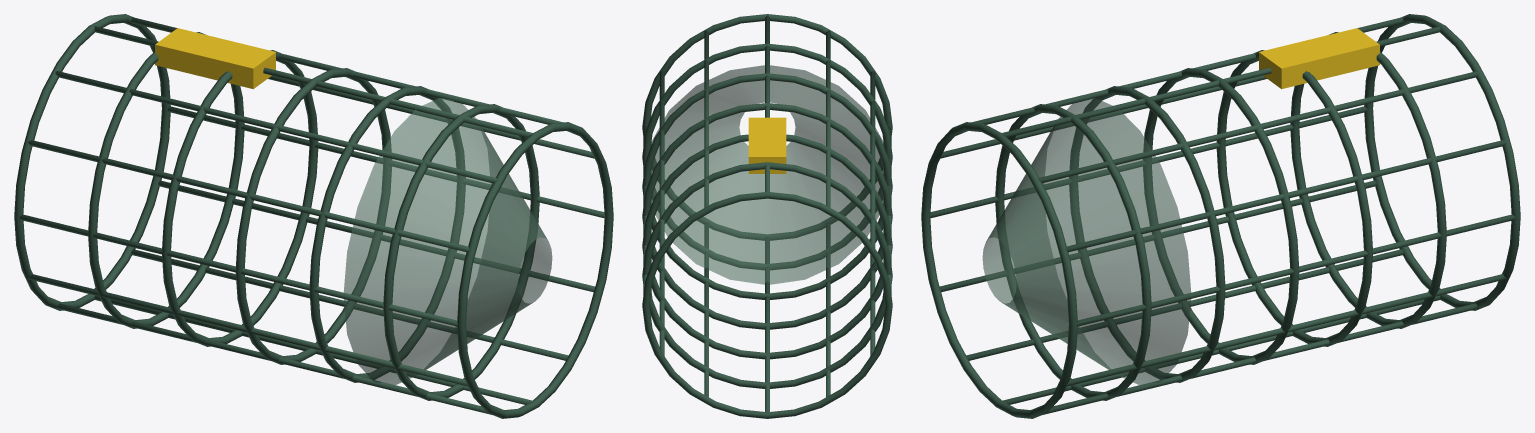
File: trap.fbx
The picture shows the model from 3 angles, left to right: view 1: azimuth 30°, elevation 25°; view 2: azimuth 150°, elevation 25°; view 3: azimuth 270°, elevation 25°; orthographic projection. The views are drawn at different scales.
Visible parts, largest first — view 1: Trap; view 2: Trap; view 3: Trap.
Part boxes in pixels (x1,y1,x2,y2): Trap: (14,14,613,418); Trap: (642,14,892,418); Trap: (921,14,1520,418).
Bounding box in the file's own units: 0.8662 × 1 × 0.5192.
